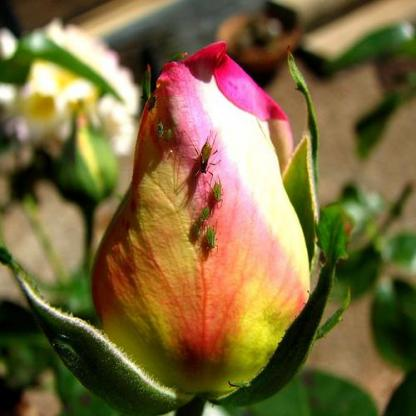aphid: (190, 128, 221, 176), (204, 174, 228, 207), (202, 223, 219, 253), (144, 91, 164, 115), (194, 204, 216, 224), (188, 220, 203, 241), (153, 121, 166, 142), (164, 127, 176, 145)
